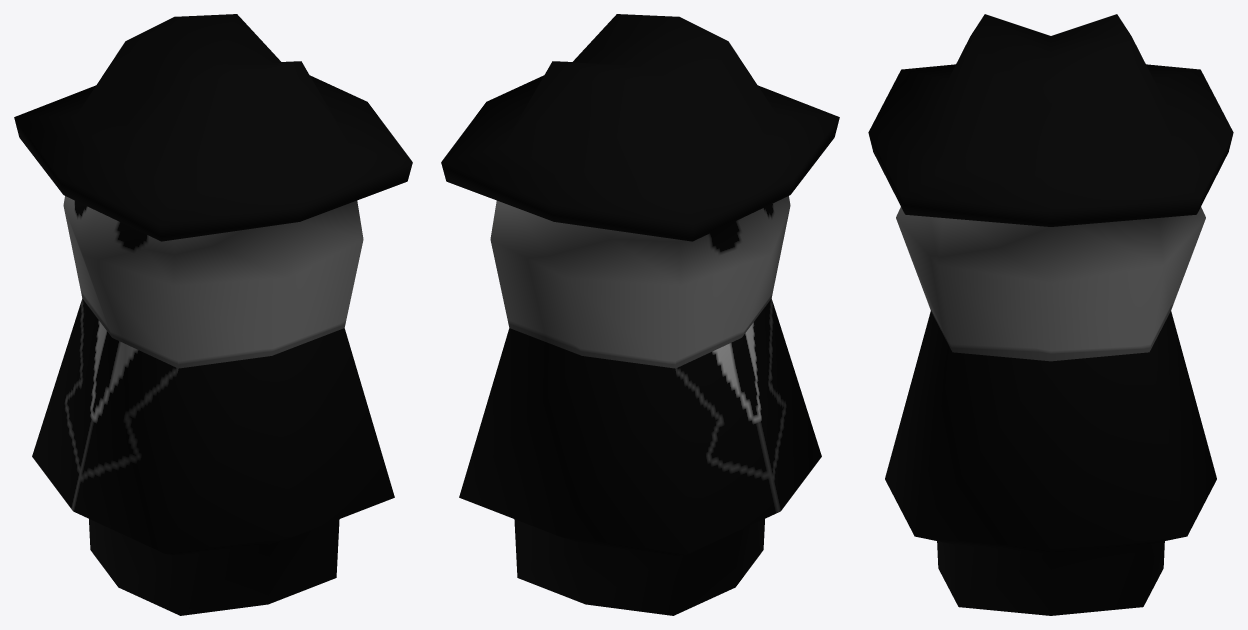
The model's file is agent_04.fbx.
3 views of the same model, side by side, from view 1: azimuth 30°, elevation 25°; view 2: azimuth 150°, elevation 25°; view 3: azimuth 270°, elevation 25° (orthographic). The views are drawn at different scales.
Parts seen in each view (by area): view 1: Cube.001; view 2: Cube.001; view 3: Cube.001.
Boxes of the visible parts, x1,y1,x2,y2 form: Cube.001: (14,14,412,615); Cube.001: (441,14,839,615); Cube.001: (868,14,1233,615).
Size of the model in its own units: 198 by 318 by 198.
